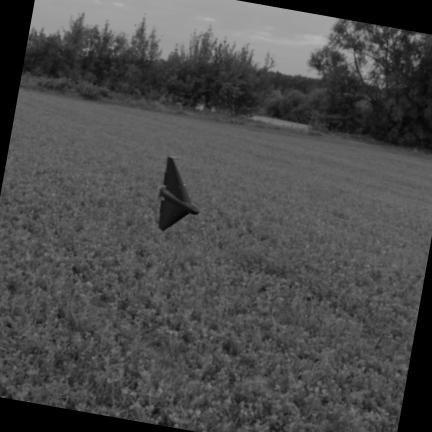Shahed: (158, 156, 199, 230)
